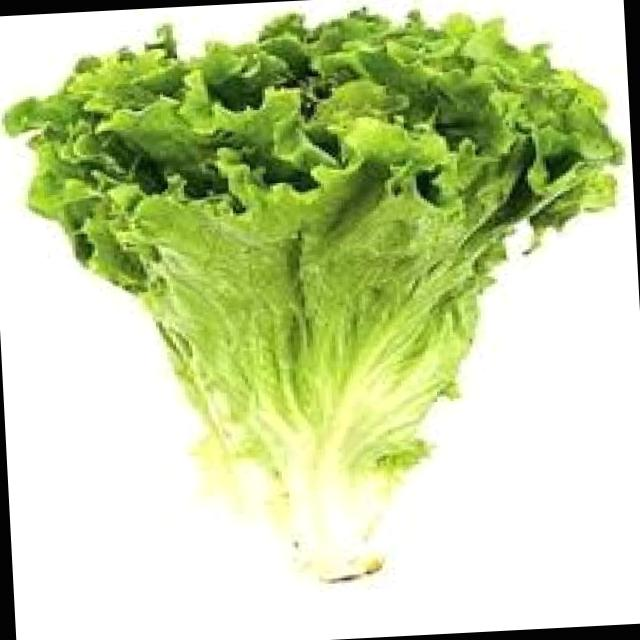Lettuce-Ready-to-Harvest: (5, 11, 621, 581)
